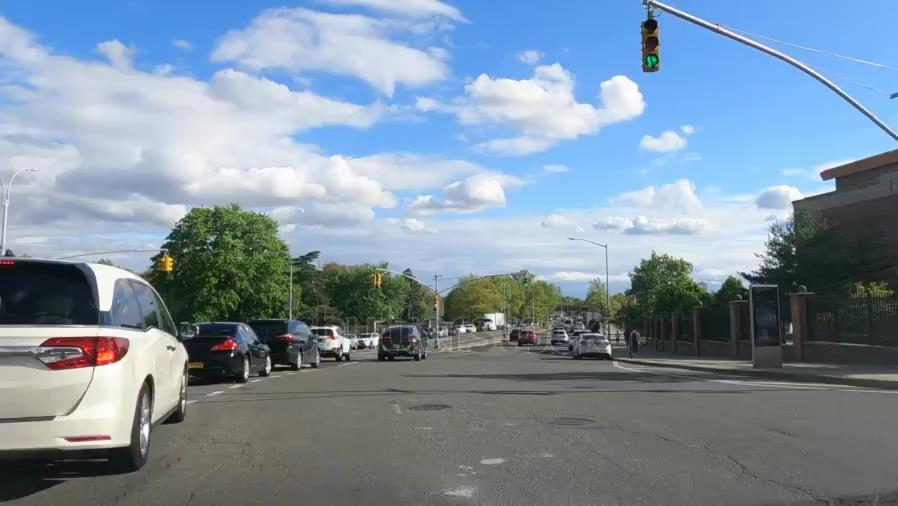car: (0, 249, 192, 476), (186, 314, 275, 387), (253, 316, 323, 370), (378, 327, 428, 360), (313, 322, 355, 361), (577, 332, 613, 360), (517, 328, 539, 350), (356, 331, 379, 351), (553, 330, 567, 343)
manhole: (405, 399, 455, 418)
person: (629, 330, 643, 355)
pothole: (547, 412, 595, 431)
traffic light: (636, 19, 664, 75), (153, 251, 176, 279), (366, 270, 383, 293), (521, 268, 531, 293)
wheel: (129, 376, 157, 474), (237, 356, 253, 382), (261, 351, 273, 377), (293, 348, 304, 371), (311, 347, 323, 368)
